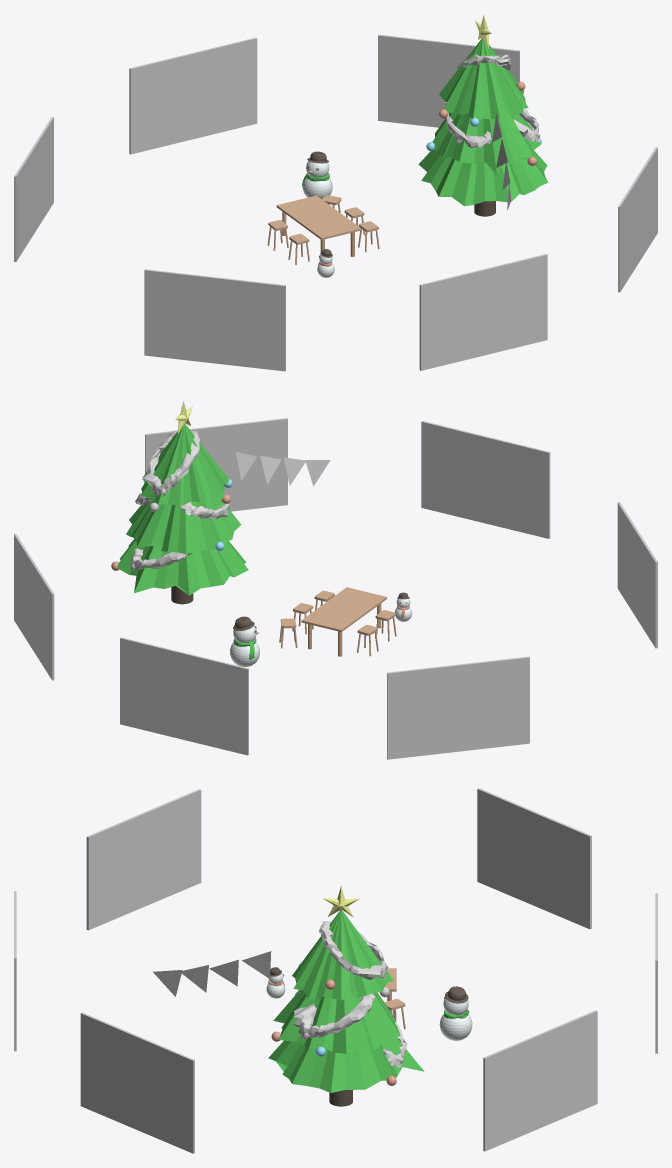
Rendered from tameshiboueiparty.fbx.
The picture shows the model from 3 angles, top to bottom: view 1: azimuth 30°, elevation 25°; view 2: azimuth 150°, elevation 25°; view 3: azimuth 270°, elevation 25°; orthographic projection. The views are drawn at different scales.
Visible parts, largest first — view 1: Cube.001, Cube.002, Cube.005, Cube.006, Cone.006, Cone.003, Cube.004, Cube.003, Cone.004, Cylinder.002, Sphere.001, Torus.002; view 2: Cube.003, Cube.005, Cube.002, Cube.004, Cone.004, Cone.006, Cube.001, Cube.006, Cone.003, Cylinder.002, Torus.001, Sphere.001 (+2 smaller); view 3: Cube.001, Cube.003, Cube.006, Cube.004, Cone.006, Cone.004, Cone.003, Torus.005, Sphere.001, Torus.001.
Boxes of the visible parts, <box> form: Cube.001: <box>144,269,285,371</box>; Cube.002: <box>129,37,257,154</box>; Cube.005: <box>419,254,547,370</box>; Cube.006: <box>378,34,519,127</box>; Cone.006: <box>418,150,547,206</box>; Cone.003: <box>439,38,528,119</box>; Cube.004: <box>618,147,657,292</box>; Cube.003: <box>14,117,53,261</box>; Cone.004: <box>432,112,540,174</box>; Cylinder.002: <box>276,195,361,256</box>; Sphere.001: <box>302,151,332,199</box>; Torus.002: <box>443,102,492,147</box>; Cube.003: <box>387,656,529,759</box>; Cube.005: <box>421,421,550,538</box>; Cube.002: <box>120,637,248,755</box>; Cube.004: <box>145,418,287,511</box>; Cone.004: <box>126,495,241,554</box>; Cone.006: <box>117,539,248,595</box>; Cube.001: <box>617,502,657,648</box>; Cube.006: <box>14,534,54,680</box>; Cone.003: <box>141,424,229,505</box>; Cylinder.002: <box>301,587,386,656</box>; Torus.001: <box>142,430,200,496</box>; Sphere.001: <box>230,616,259,667</box>; Cube.001: <box>86,789,201,930</box>; Cube.003: <box>477,788,591,929</box>; Cube.006: <box>483,1010,597,1151</box>; Cube.004: <box>80,1012,194,1153</box>; Cone.006: <box>268,1037,424,1092</box>; Cone.004: <box>273,990,400,1053</box>; Cone.003: <box>292,909,392,1000</box>; Torus.005: <box>294,993,375,1039</box>; Sphere.001: <box>439,986,472,1040</box>; Torus.001: <box>319,921,388,979</box>.
Bounding box in the file's own units: 14070 × 5187 × 14045.
